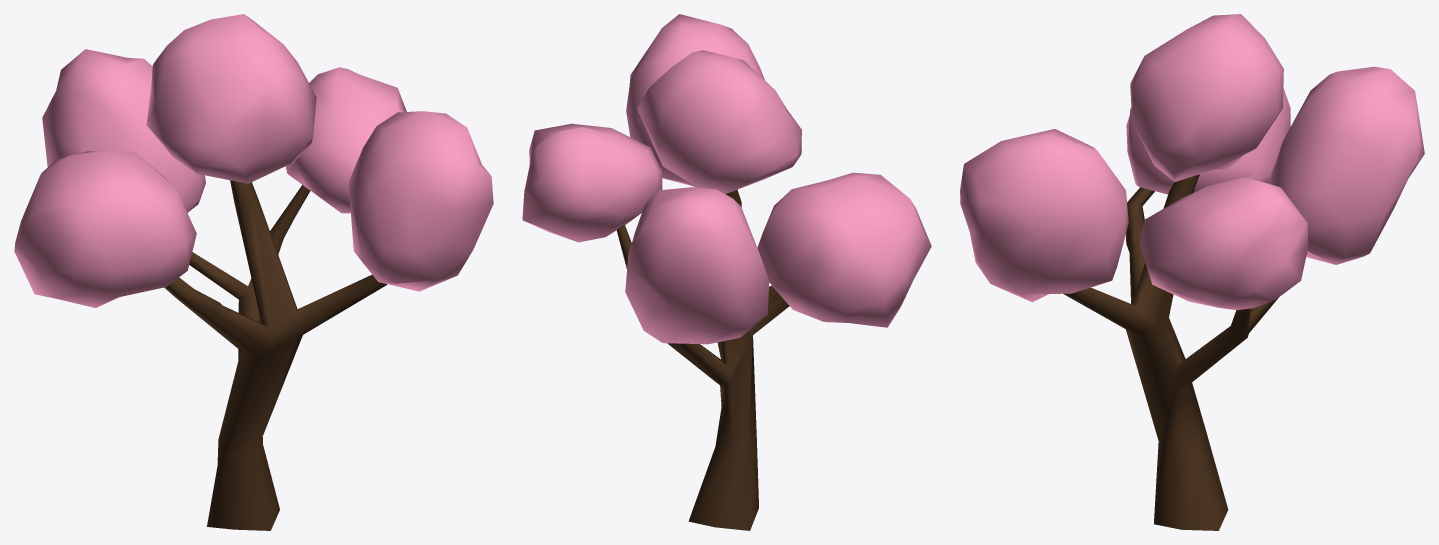
Rendered from Tree_8.fbx.
3 renders of one model, left to right at view 1: azimuth 30°, elevation 25°; view 2: azimuth 150°, elevation 25°; view 3: azimuth 270°, elevation 25°, orthographic. The views are drawn at different scales.
Visible parts, largest first — view 1: Tree_8; view 2: Tree_8; view 3: Tree_8.
Part boxes in pixels (x1,y1,x2,y2): Tree_8: (14, 14, 493, 530); Tree_8: (522, 14, 931, 530); Tree_8: (960, 14, 1424, 530).
Size of the model in its own units: 577 by 696 by 584.
